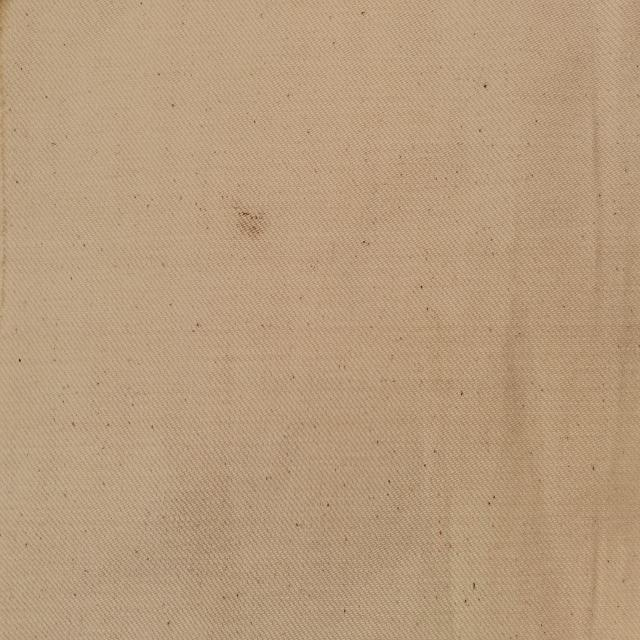taaaches: (228, 186, 271, 248)
